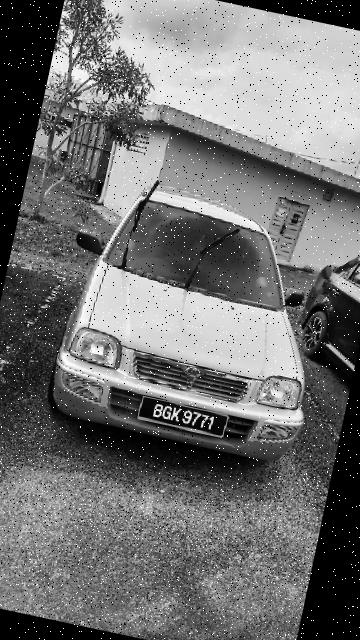License_Plate: (131, 392, 234, 448)
car: (37, 157, 350, 473), (285, 226, 360, 390)
